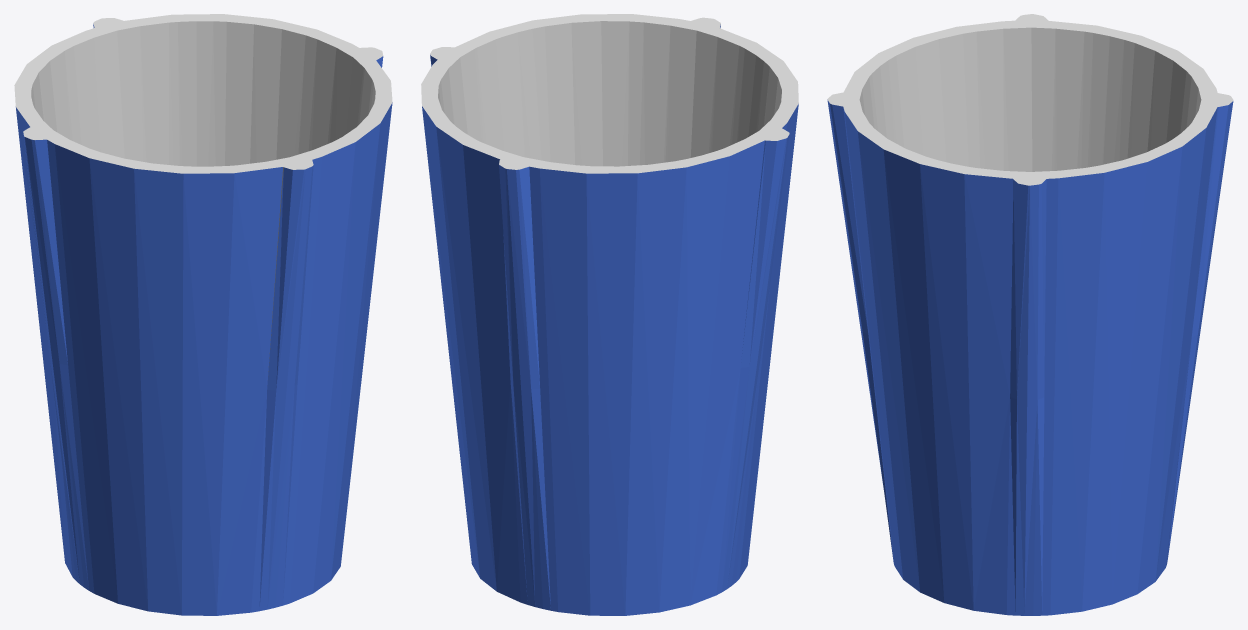
Rendered from robot_dust_bin.dae.
The picture shows the model from 3 angles, left to right: view 1: azimuth 30°, elevation 25°; view 2: azimuth 150°, elevation 25°; view 3: azimuth 270°, elevation 25°; orthographic projection.
Visible parts, largest first — view 1: dust_bin_01; view 2: dust_bin_01; view 3: dust_bin_01.
Boxes of the visible parts, left/top/right/bottom form: dust_bin_01: left=14, top=14, right=392, bottom=615; dust_bin_01: left=421, top=14, right=798, bottom=615; dust_bin_01: left=827, top=14, right=1233, bottom=615.
Bounding box in the file's own units: 0.3696 × 0.3696 × 0.46.
